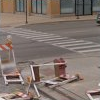crosswalk: (6, 30, 100, 53)
